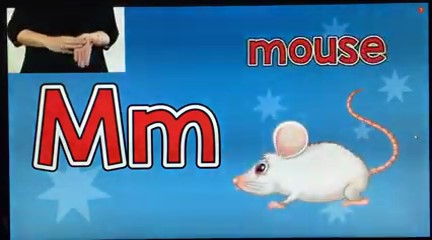M: (45, 26, 96, 69)
